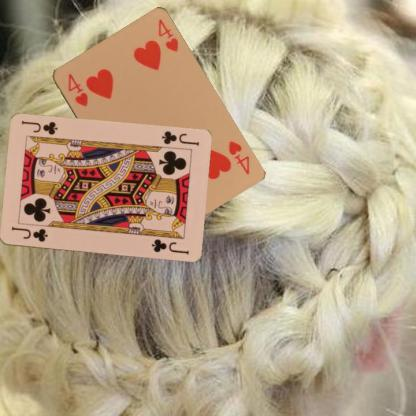4h: (226, 138, 252, 176), (65, 71, 89, 108)
Jc: (9, 224, 48, 243), (159, 129, 200, 147)
